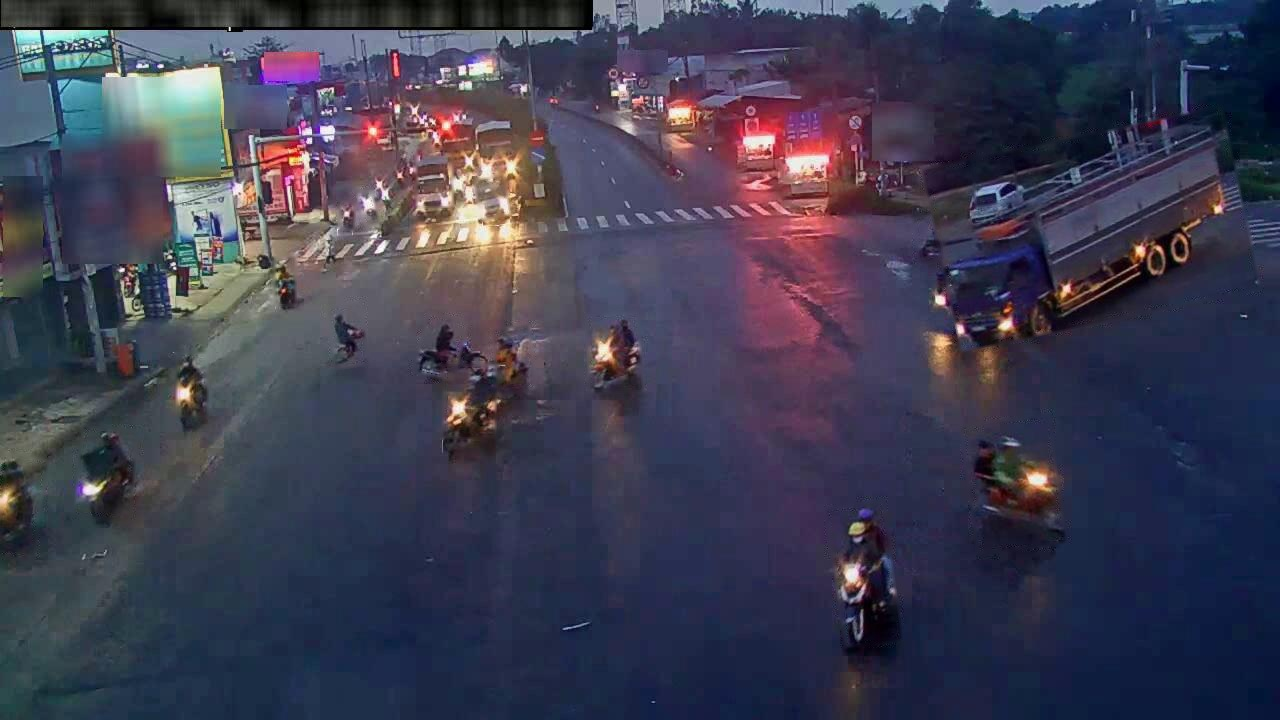Car: (970, 159, 1033, 195), (414, 174, 453, 220), (477, 180, 510, 224)
Motorcycle: (973, 436, 1062, 535), (277, 280, 295, 309)
Motorcyclist: (835, 508, 897, 651), (441, 370, 500, 459), (79, 433, 135, 524), (418, 324, 488, 378), (591, 321, 642, 391), (0, 459, 35, 548), (175, 355, 207, 428), (495, 335, 529, 393), (333, 313, 365, 361), (919, 215, 947, 261), (360, 194, 376, 224), (340, 205, 354, 233)
Truck: (930, 120, 1225, 345)
